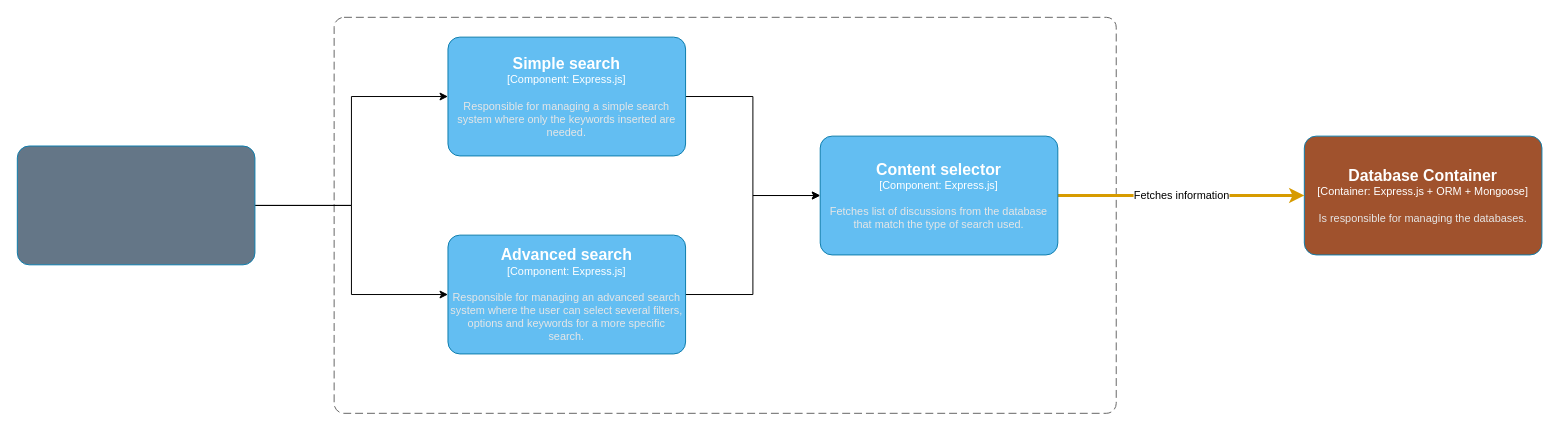
This 1559x431 diagram has some shape labels left out. Here are the shapes that lost their labels. From the top down, the box of each, then its label:
(16, 145, 255, 265): Request Handler [Container: Node.js] Replies to client's requests
(333, 16, 1116, 413): Search Service [Component]
